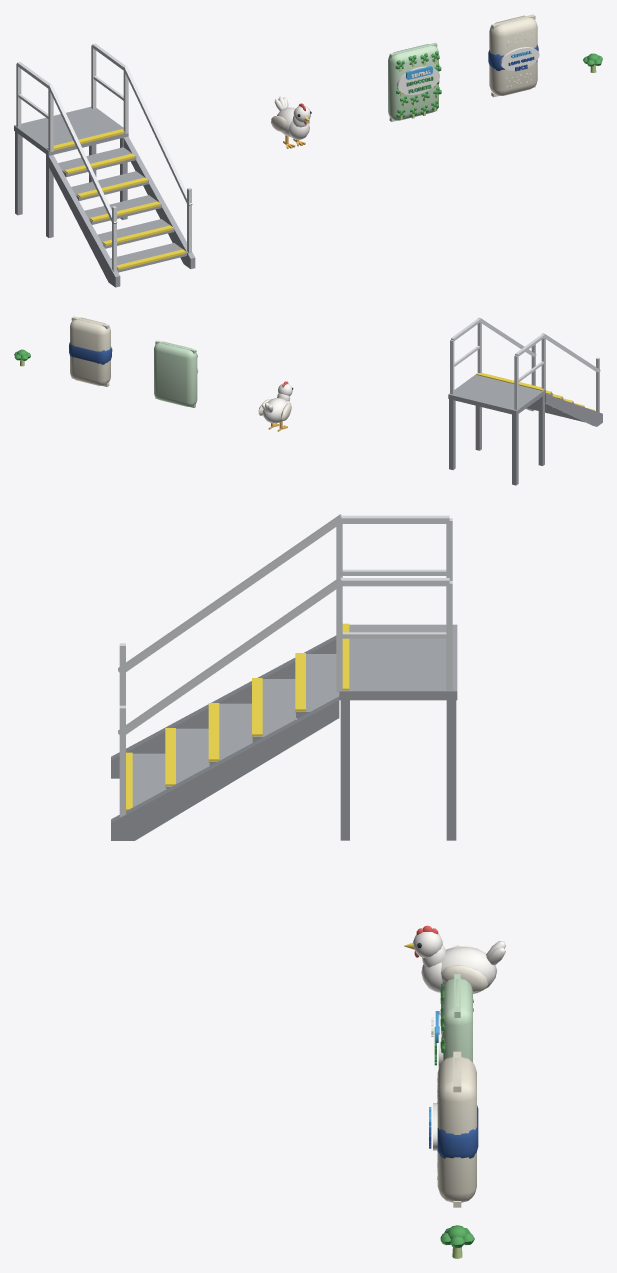
File: WChewsMealProps_02.glb
3 views of the same model, one above another, from view 1: azimuth 30°, elevation 25°; view 2: azimuth 150°, elevation 25°; view 3: azimuth 270°, elevation 25° (orthographic). The views are drawn at different scales.
Parts seen in each view (by area): view 1: WcBayStairs_Steel, WcBayStairs_Rails, RiceBag_Bag, WcBayStairs_Nosing, BroccoliBag_Bag, LiveChicken_Body, BroccoliBag_Print, BroccoliBag_Label, RiceBag_Label; view 2: WcBayStairs_Steel, BroccoliBag_Bag, WcBayStairs_Rails, RiceBag_Bag, LiveChicken_Body, RiceBag_Band, WcBayStairs_Nosing; view 3: WcBayStairs_Steel, WcBayStairs_Rails, RiceBag_Bag, WcBayStairs_Nosing, LiveChicken_Body, BroccoliBag_Bag, RiceBag_Band.
Part boxes in pixels (left/top/right/bottom): WcBayStairs_Steel: left=14, top=106, right=195, bottom=287; WcBayStairs_Rails: left=16, top=43, right=192, bottom=271; RiceBag_Bag: left=489, top=14, right=537, bottom=97; WcBayStairs_Nosing: left=46, top=128, right=186, bottom=269; BroccoliBag_Bag: left=388, top=42, right=438, bottom=121; LiveChicken_Body: left=274, top=96, right=310, bottom=139; BroccoliBag_Print: left=395, top=51, right=441, bottom=117; BroccoliBag_Label: left=396, top=66, right=439, bottom=94; RiceBag_Label: left=500, top=47, right=539, bottom=70; WcBayStairs_Steel: left=448, top=374, right=602, bottom=485; BroccoliBag_Bag: left=154, top=340, right=197, bottom=407; WcBayStairs_Rails: left=450, top=317, right=600, bottom=412; RiceBag_Bag: left=70, top=316, right=110, bottom=386; LiveChicken_Body: left=261, top=383, right=292, bottom=423; RiceBag_Band: left=69, top=342, right=111, bottom=364; WcBayStairs_Nosing: left=476, top=372, right=594, bottom=410; WcBayStairs_Steel: left=111, top=624, right=457, bottom=840; WcBayStairs_Rails: left=118, top=514, right=452, bottom=817; RiceBag_Bag: left=437, top=1051, right=476, bottom=1207; WcBayStairs_Nosing: left=126, top=623, right=349, bottom=810; LiveChicken_Body: left=413, top=932, right=505, bottom=993; BroccoliBag_Bag: left=441, top=974, right=472, bottom=1061; RiceBag_Band: left=437, top=1105, right=478, bottom=1158.
Bounding box in the file's own units: 29.45 × 7.32 × 10.03.
